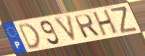9: (40, 20, 61, 46)
D: (17, 22, 42, 52)
H: (92, 9, 120, 38)
R: (73, 13, 102, 40)
V: (52, 13, 80, 45)
Z: (109, 5, 139, 34)
